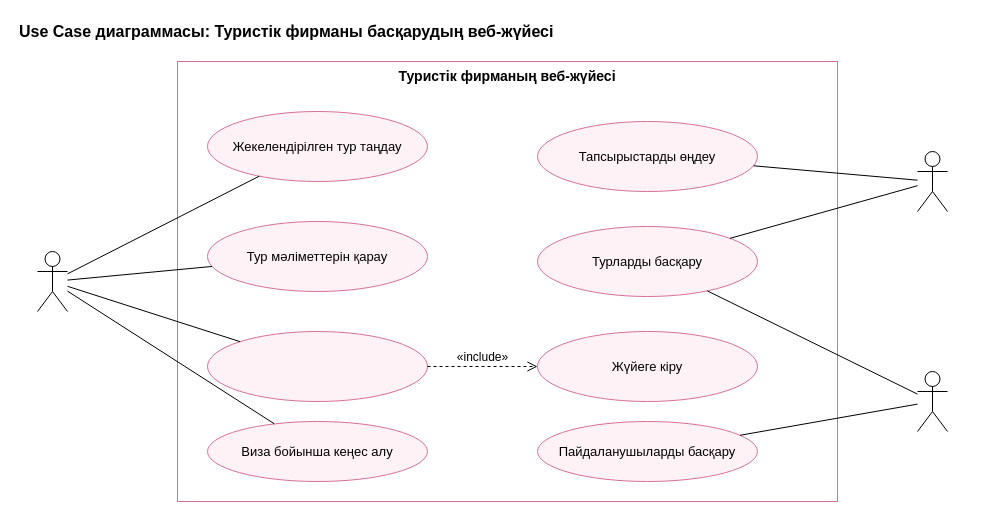
This 981x519 diagram has some shape labels left out. The shapes that lost their labels are listed below. From the top down, each one's box as (x1, y1, x2, y2) in pixels, then its label:
(916, 150, 948, 212): Менеджер
(36, 250, 68, 312): Клиент
(206, 330, 428, 402): Тапсырыс беру
(916, 370, 948, 432): Әкімші
